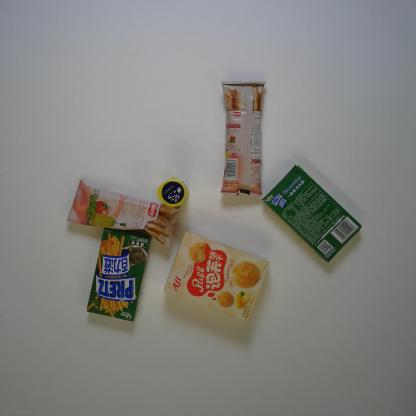Dessert: (159, 227, 272, 325), (260, 161, 362, 266), (64, 176, 183, 251), (83, 222, 156, 322), (217, 77, 269, 200)
Gum: (154, 178, 190, 209)
